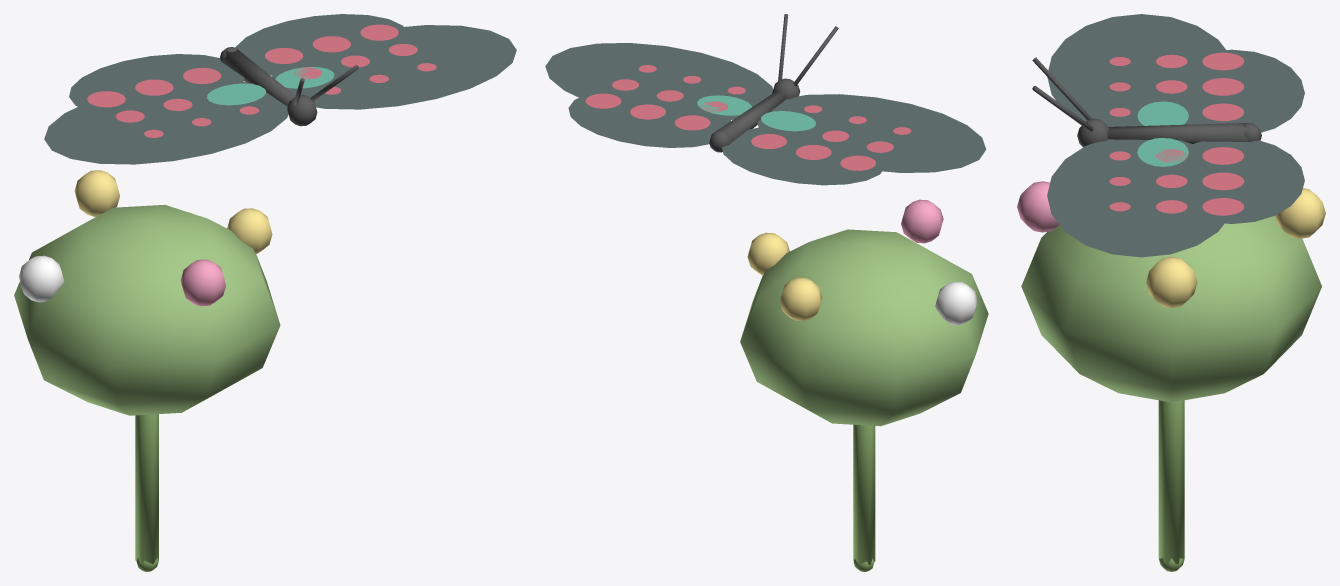
Rendered from chinese-peacock.glb.
3 views of the same model, side by side, from view 1: azimuth 30°, elevation 25°; view 2: azimuth 150°, elevation 25°; view 3: azimuth 270°, elevation 25° (orthographic). The views are drawn at different scales.
Parts seen in each view (by area): view 1: e, wingdisc, wingdisc.012, e.007; view 2: e, wingdisc, wingdisc.012, e.007; view 3: e, wingdisc.012, wingdisc, e.007.
Part boxes in pixels (bbox=[...]): e: bbox=[14, 170, 280, 571]; wingdisc: bbox=[44, 54, 288, 164]; wingdisc.012: bbox=[235, 14, 516, 109]; e.007: bbox=[220, 47, 358, 126]; e: bbox=[740, 199, 988, 571]; wingdisc: bbox=[722, 94, 986, 185]; wingdisc.012: bbox=[545, 43, 773, 147]; e.007: bbox=[709, 14, 838, 152]; e: bbox=[1017, 181, 1325, 571]; wingdisc.012: bbox=[1047, 138, 1304, 257]; wingdisc: bbox=[1047, 14, 1304, 132]; e.007: bbox=[1032, 57, 1261, 147].
Bounding box in the file's own units: 1.38 × 1.44 × 0.7187.
